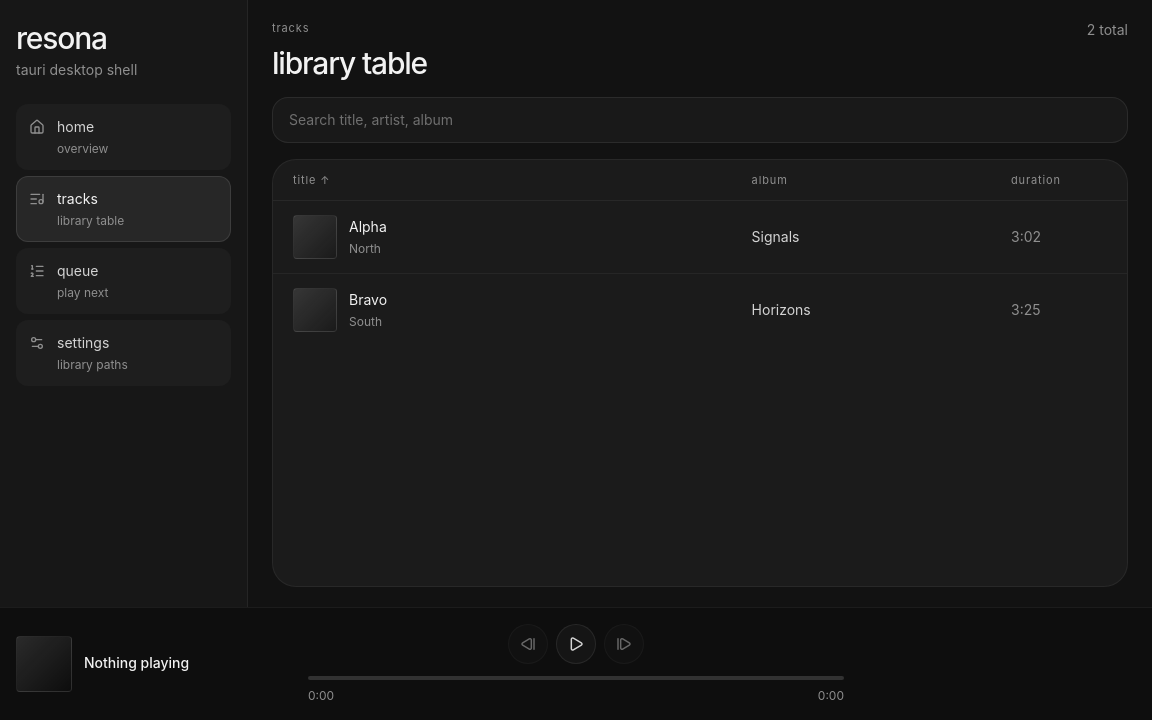
Test: app shell smoke checks › syncs progress labels from the active audio element
What coordinates should you click on to do the following:
click the button with aria-label "Select Alpha"
I would click on:
 (315, 237)
Its box is 273,201 -> 1127,274.
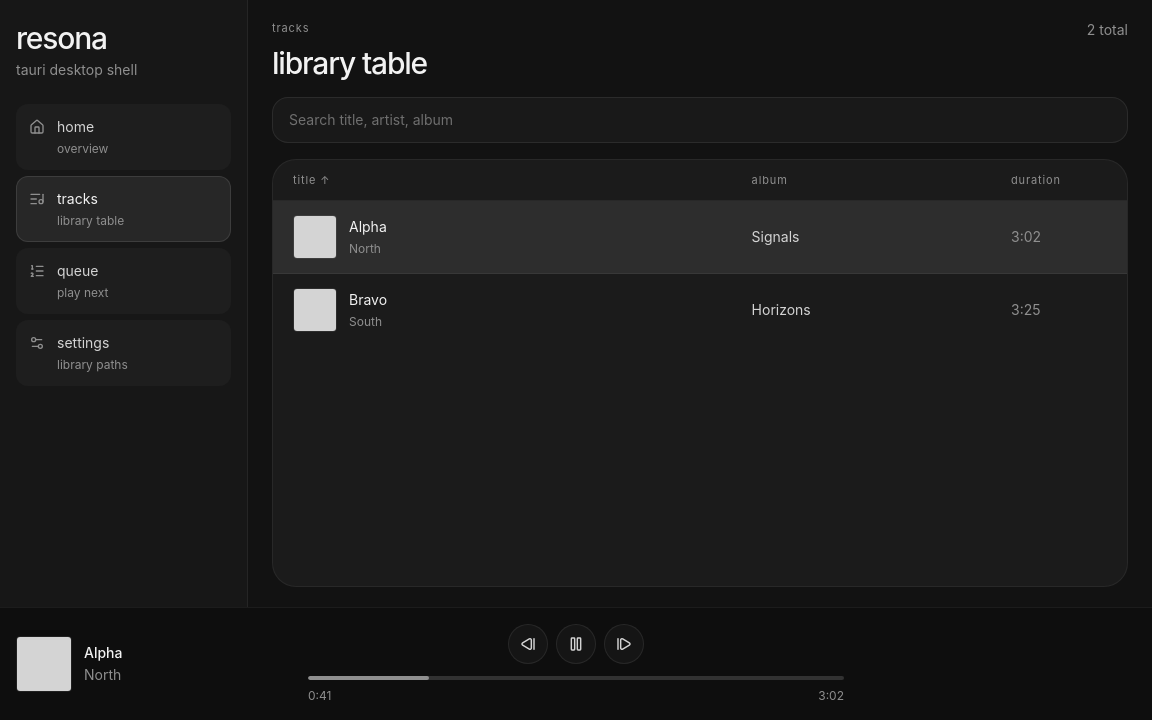
Expected: the text "3:02" below "duration" is shown, 1011,228 -> 1041,245
Now the text "0:41" is shown, box 308,688 -> 331,704
